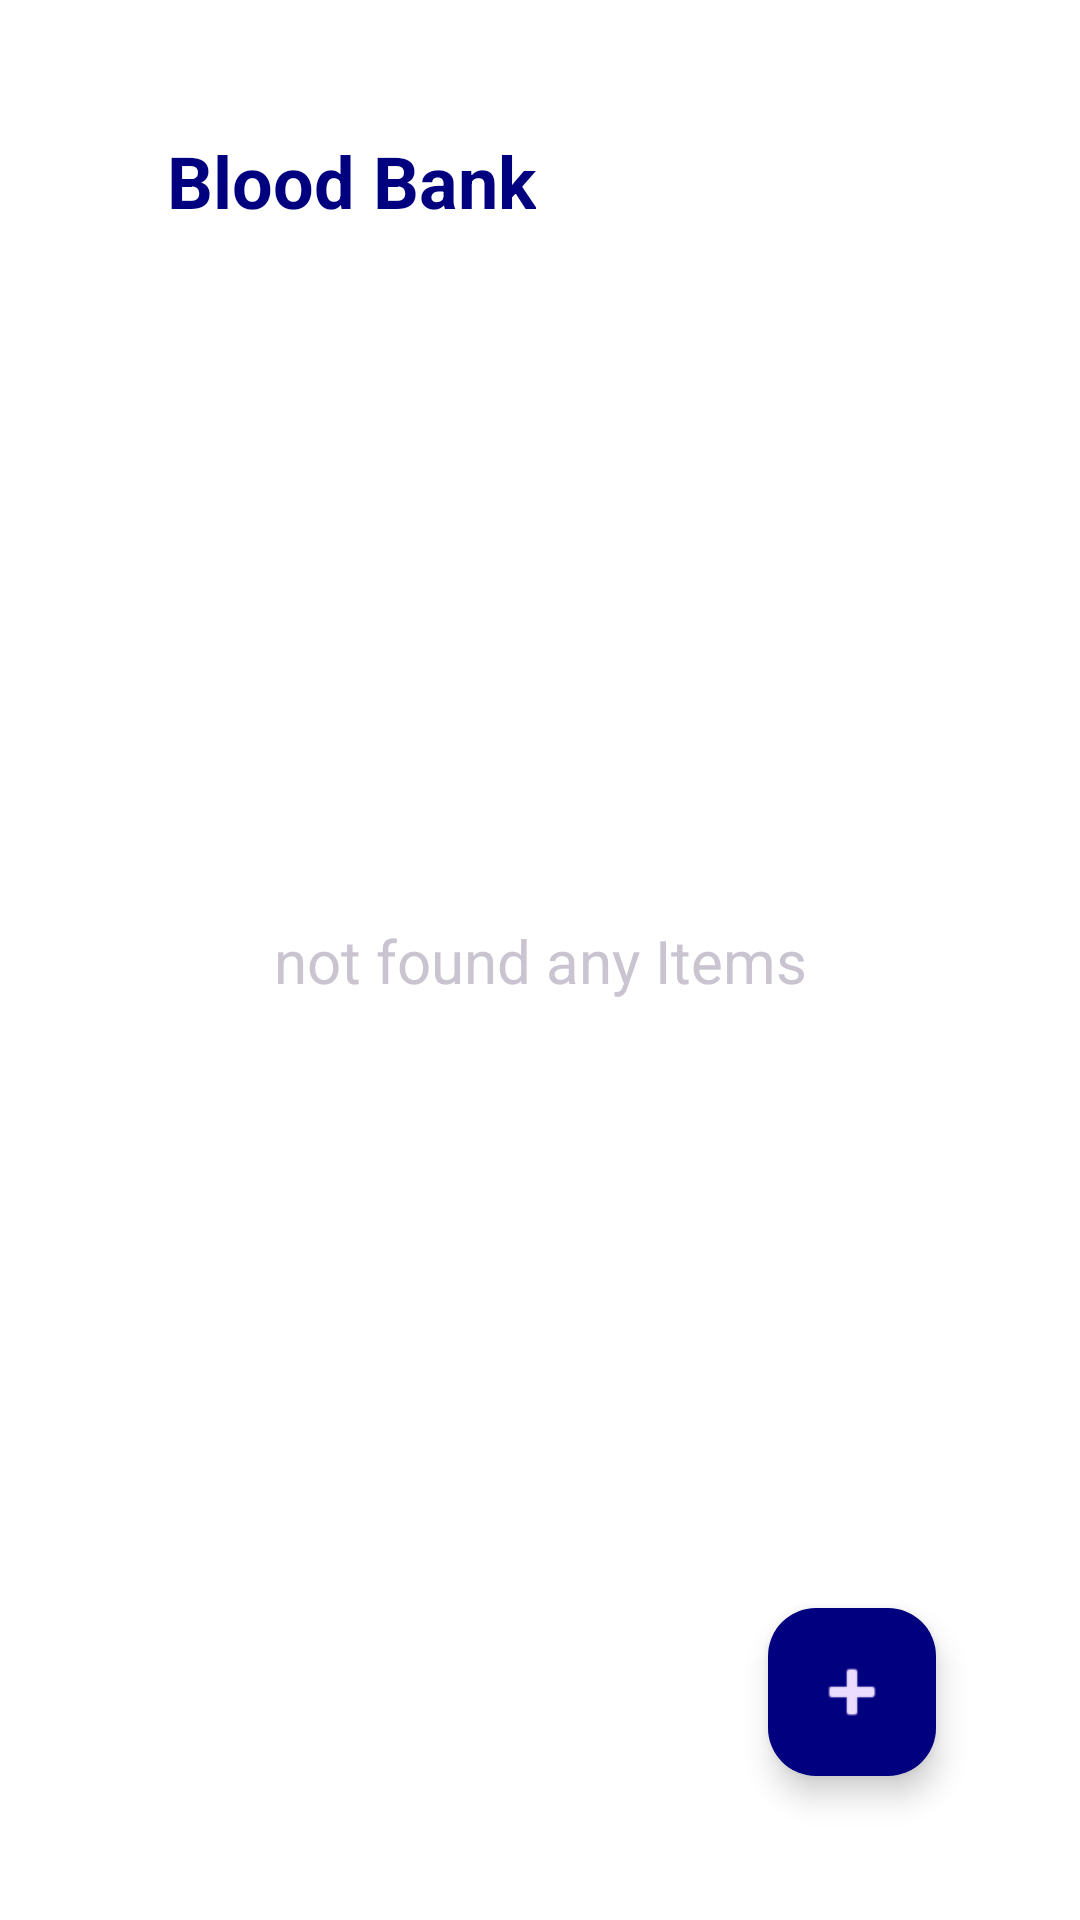

Named icons in this screenshot (1080*1920) and their bounding boxes, (x1, y1, x2, y2):
add blood: (768, 1608, 936, 1776)
